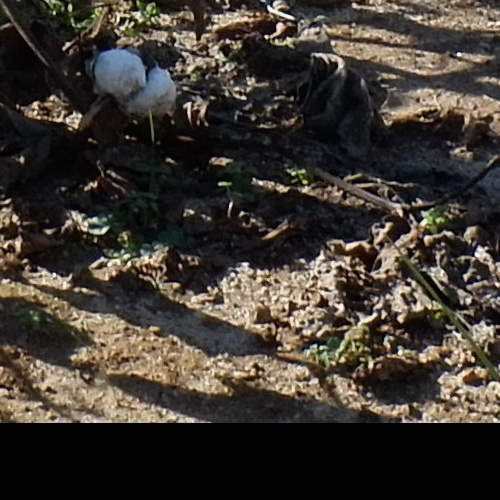mature_boll: (88, 34, 183, 138)
